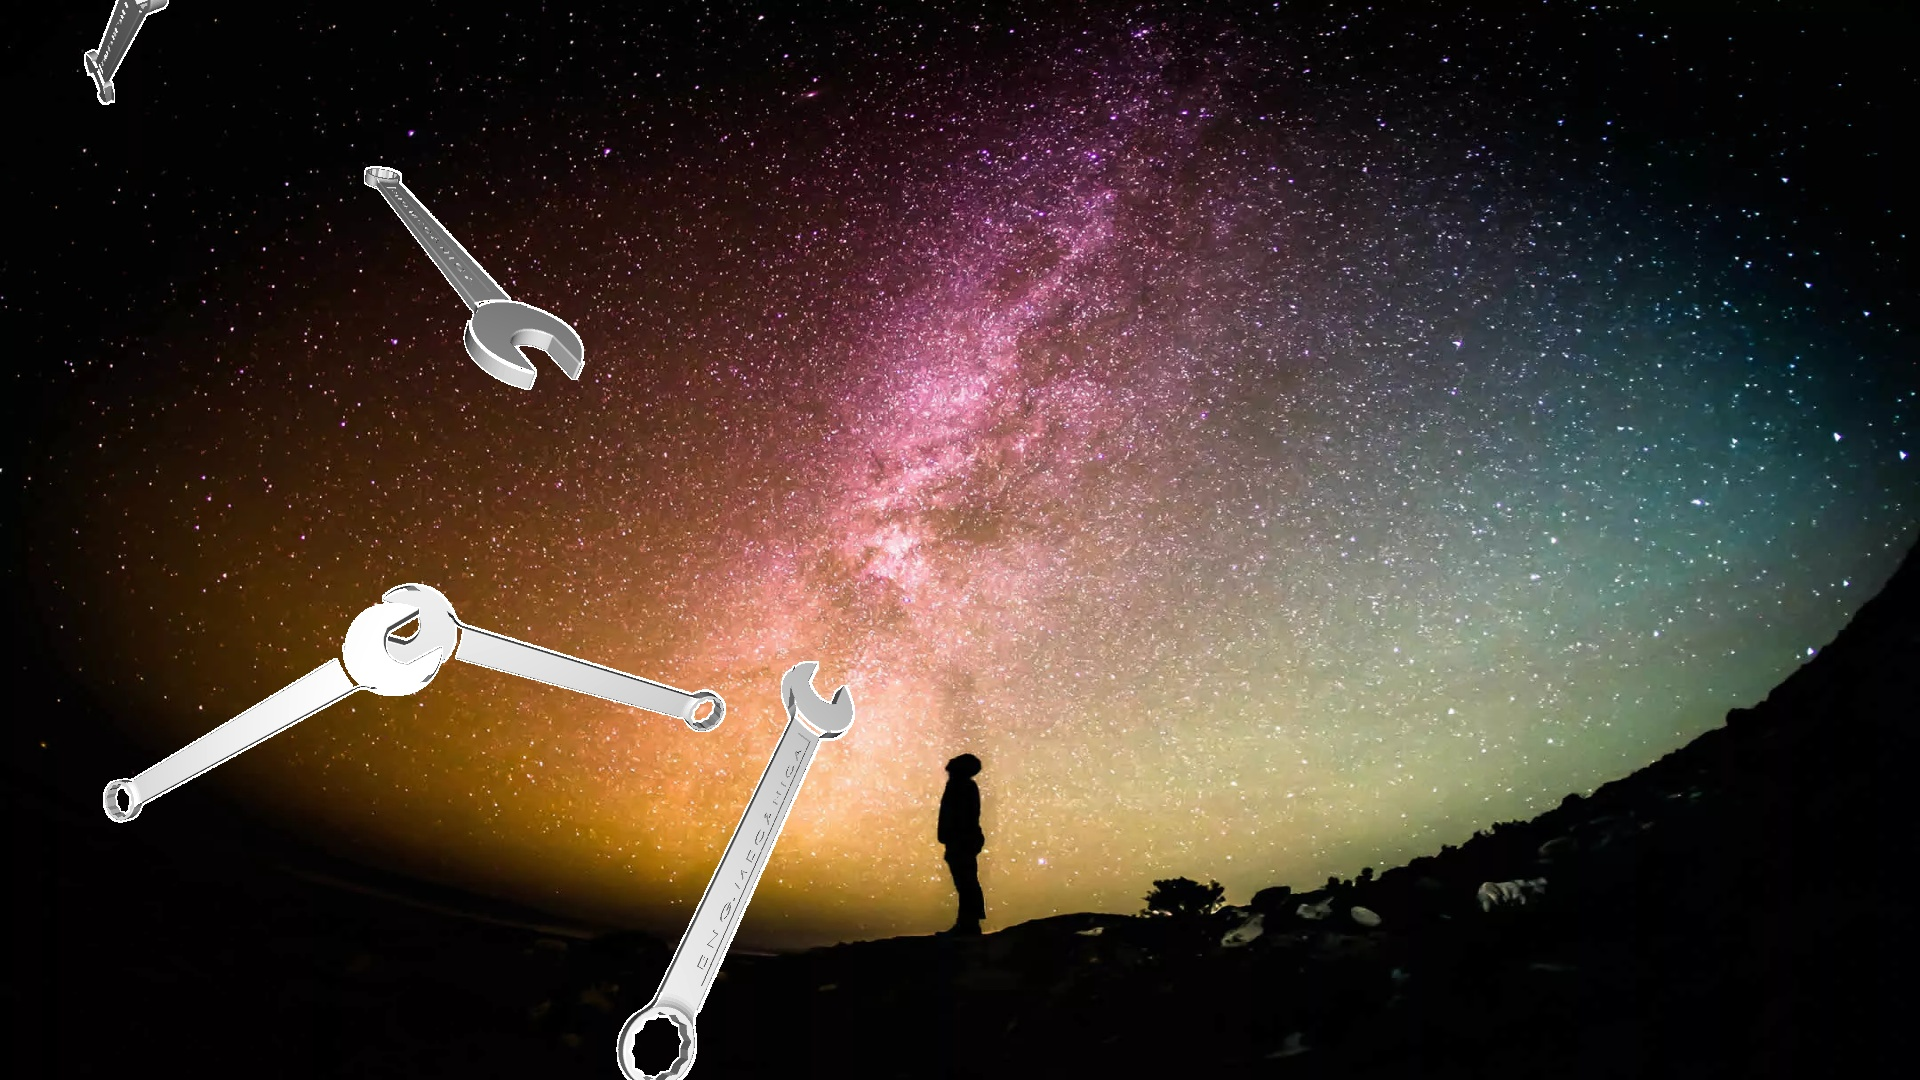Mixed Key: (616, 661, 855, 1079), (103, 603, 442, 822), (382, 583, 725, 731), (364, 166, 584, 389), (84, 0, 167, 104)
